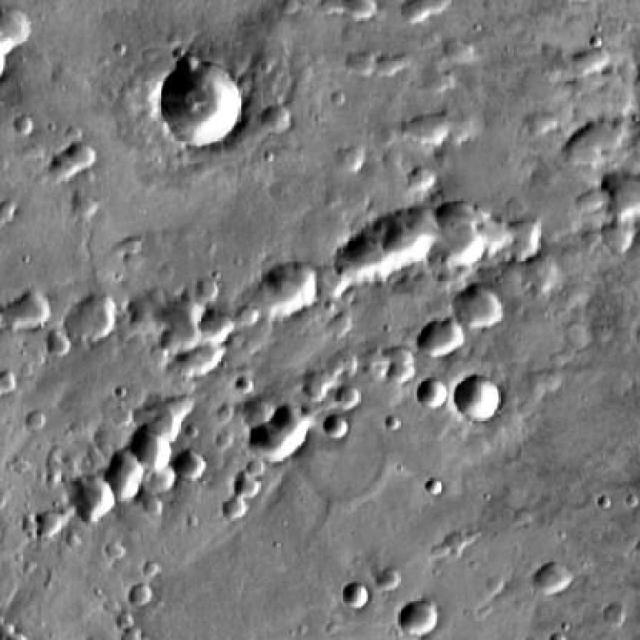crater: (159, 61, 246, 148), (441, 208, 504, 270), (385, 215, 447, 277), (66, 292, 122, 348), (448, 281, 501, 333), (170, 305, 222, 357), (456, 376, 506, 426), (264, 264, 313, 313), (355, 239, 403, 287), (86, 478, 131, 522), (188, 340, 232, 383), (120, 454, 162, 498), (1, 8, 44, 50), (391, 598, 434, 639), (266, 428, 308, 469), (418, 316, 458, 356), (287, 408, 327, 448), (146, 432, 185, 471), (8, 292, 47, 330), (601, 119, 640, 157), (518, 225, 554, 262), (409, 112, 445, 148), (561, 131, 597, 166), (538, 566, 570, 599), (80, 143, 112, 174), (214, 318, 246, 349), (190, 453, 221, 484), (258, 402, 288, 432), (144, 308, 174, 337), (360, 52, 389, 82), (247, 473, 276, 502), (388, 349, 417, 378), (316, 377, 344, 406), (424, 163, 451, 191), (51, 512, 78, 540), (344, 583, 371, 611), (275, 110, 302, 138), (418, 382, 445, 409), (168, 416, 194, 442), (166, 470, 192, 496), (340, 418, 366, 444), (448, 34, 474, 60), (617, 228, 640, 257), (66, 159, 91, 184), (195, 55, 219, 80), (584, 56, 608, 81), (593, 194, 618, 218), (375, 574, 400, 598), (210, 285, 235, 309), (358, 0, 389, 18), (61, 334, 84, 358), (352, 393, 376, 416), (87, 198, 110, 222), (241, 501, 264, 524), (133, 586, 156, 609), (411, 0, 435, 22), (7, 202, 30, 224), (184, 398, 207, 420), (600, 52, 623, 74), (352, 357, 374, 380), (28, 116, 50, 138), (618, 603, 640, 625), (249, 313, 271, 335), (9, 377, 31, 397), (42, 414, 62, 434), (262, 463, 282, 483), (249, 380, 268, 398), (593, 241, 612, 259), (8, 626, 30, 640), (154, 506, 172, 523), (108, 542, 125, 560), (127, 623, 144, 640), (393, 426, 410, 443), (0, 313, 9, 344), (142, 562, 158, 578), (228, 415, 244, 431), (435, 484, 451, 499), (137, 629, 158, 640), (0, 168, 6, 185)
